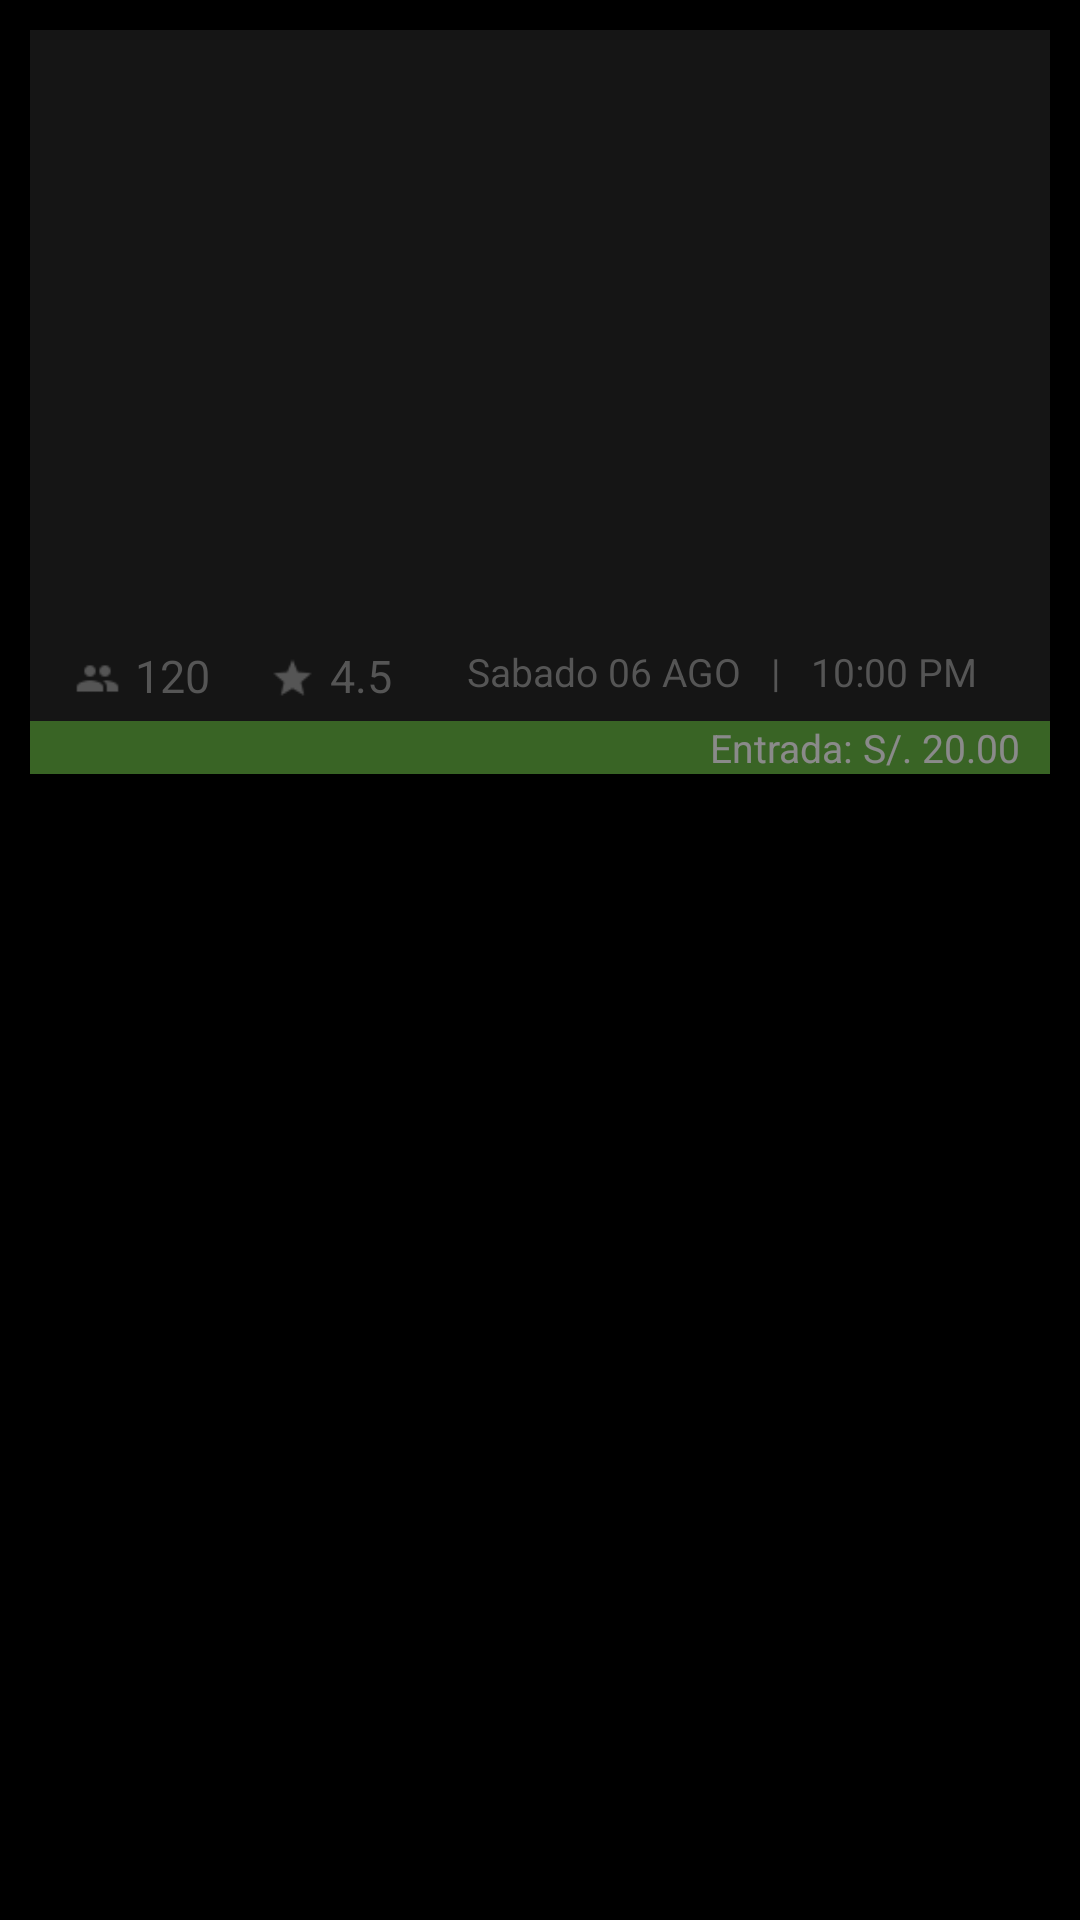

Where to tap for icons on this 1080 x 1920 app screen, as point (x, y):
accountmultiple: point (97, 678)
star: point (292, 678)
